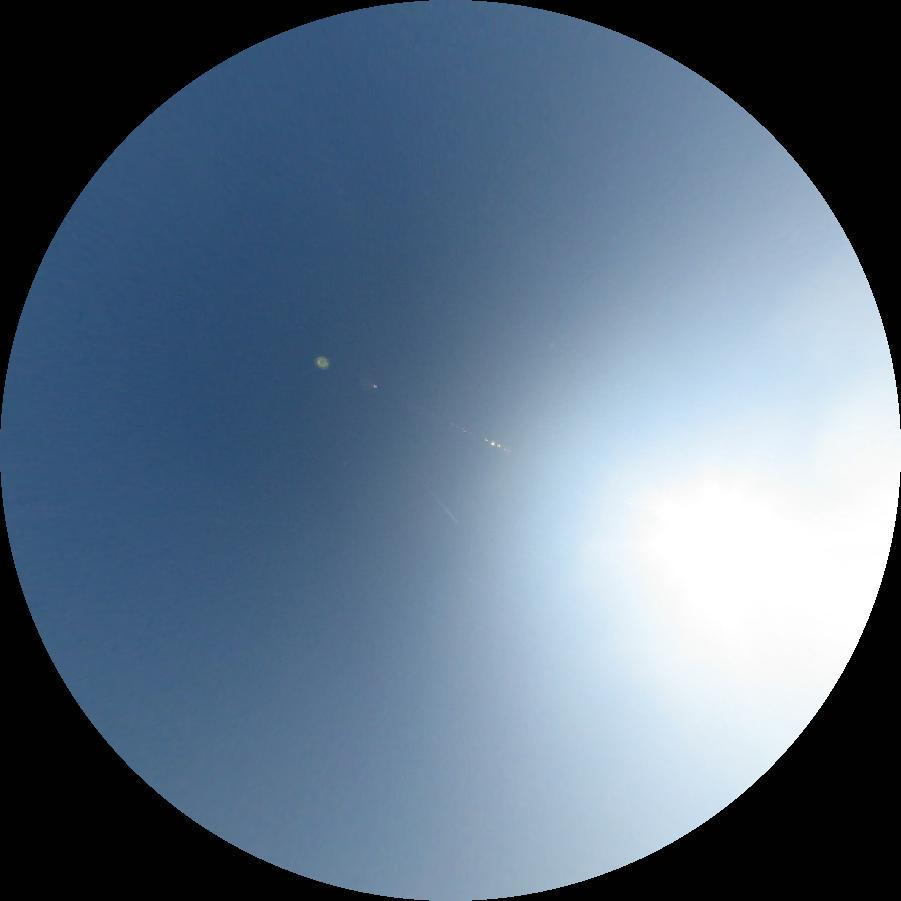contrail young: (405, 462, 459, 524)
sun: (644, 476, 895, 678)
